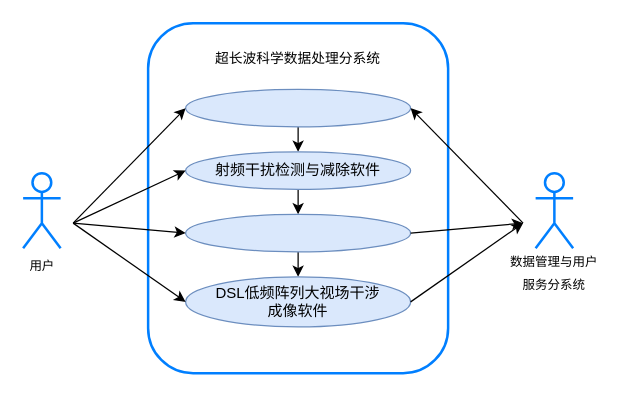
The diagram is 631 pixels wide and 395 high, and some of its shapes have lost their labels. Here are the shapes that lost their labels. From the top down, the box of each, then its label:
(184, 88, 411, 127): 数据处理管线(Pipeline)
(184, 213, 411, 252): DSL频谱数据分析软件
